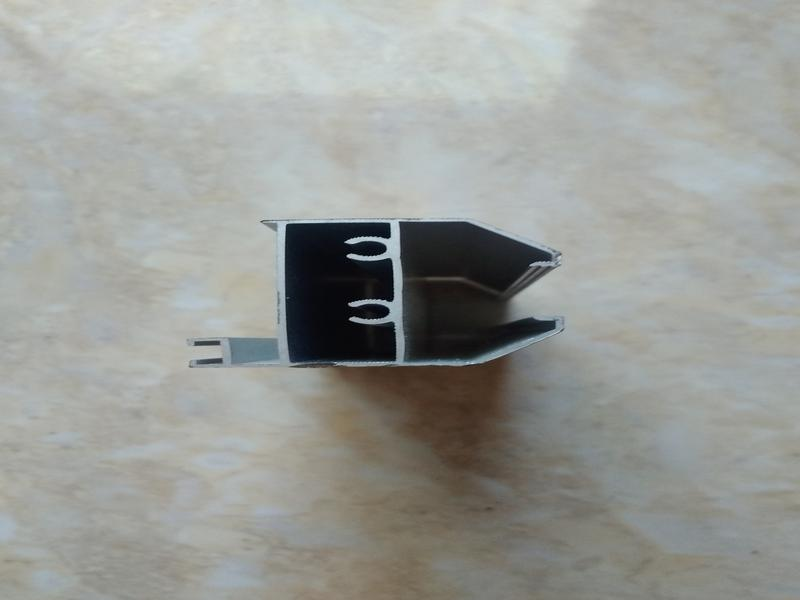Aluminium_3: (161, 170, 611, 407)
